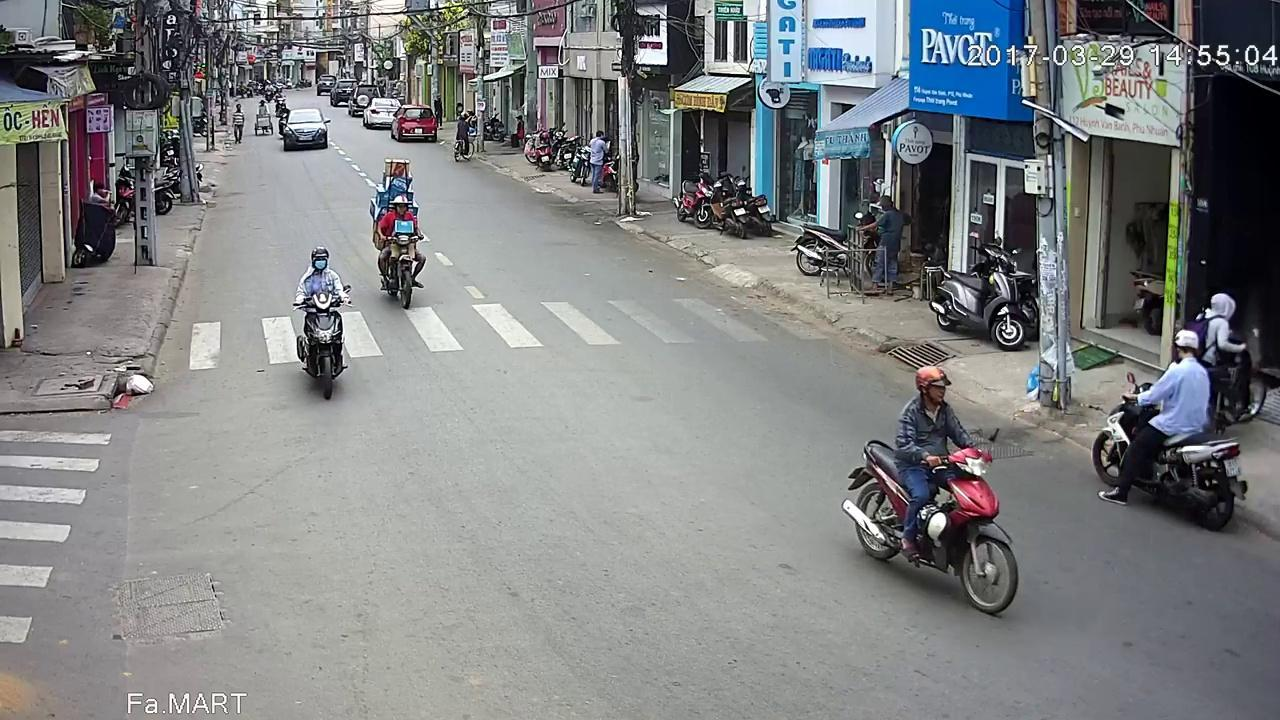xe dap: (452, 108, 474, 163)
xe hoi: (390, 102, 437, 142), (283, 110, 327, 152)
xe may: (850, 386, 1020, 644), (1092, 330, 1251, 531), (290, 234, 349, 392), (371, 192, 427, 306)
